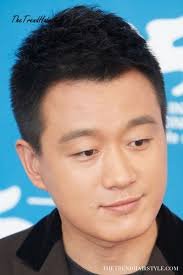asian_male: (25, 38, 170, 244)
